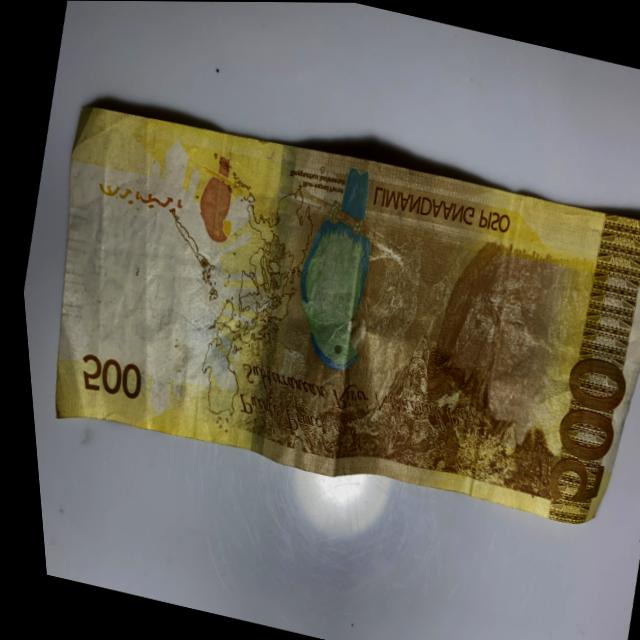500_big_parrot: (262, 156, 413, 381)
500_parrot_watermark: (183, 155, 247, 248)
value_watermark: (80, 231, 109, 281)
